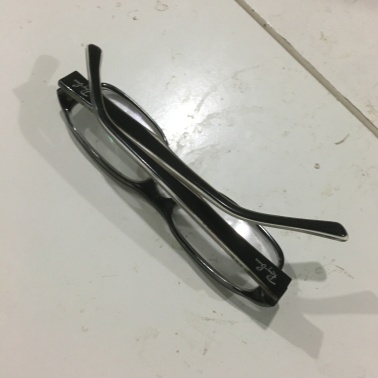glasses: (44, 74, 294, 312)
